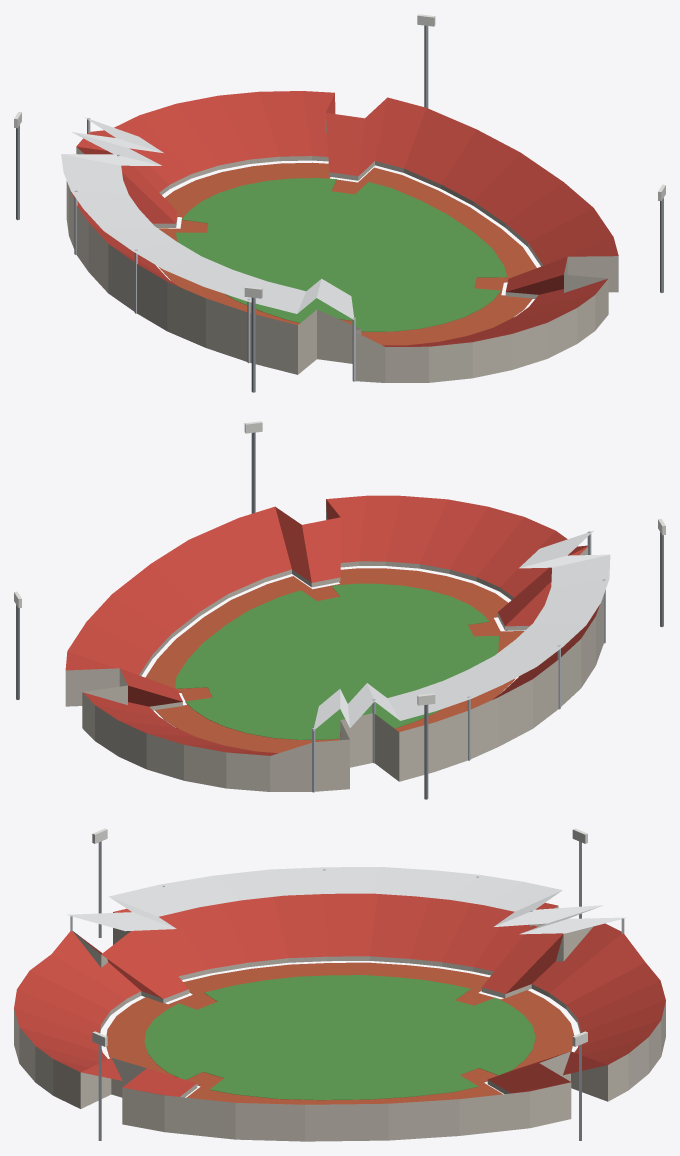
The model's file is thuwunna_stadium.glb.
The picture shows the model from 3 angles, top to bottom: view 1: azimuth 30°, elevation 25°; view 2: azimuth 150°, elevation 25°; view 3: azimuth 270°, elevation 25°; orthographic projection.
Visible parts, largest first — view 1: ring; view 2: ring; view 3: ring.
Part boxes in pixels (box(x1,y1,x2,y2)): ring: box(14, 14, 665, 392); ring: box(14, 421, 665, 799); ring: box(14, 828, 665, 1141).
Size of the model in its own units: 6481130 by 1506679 by 8407585.
